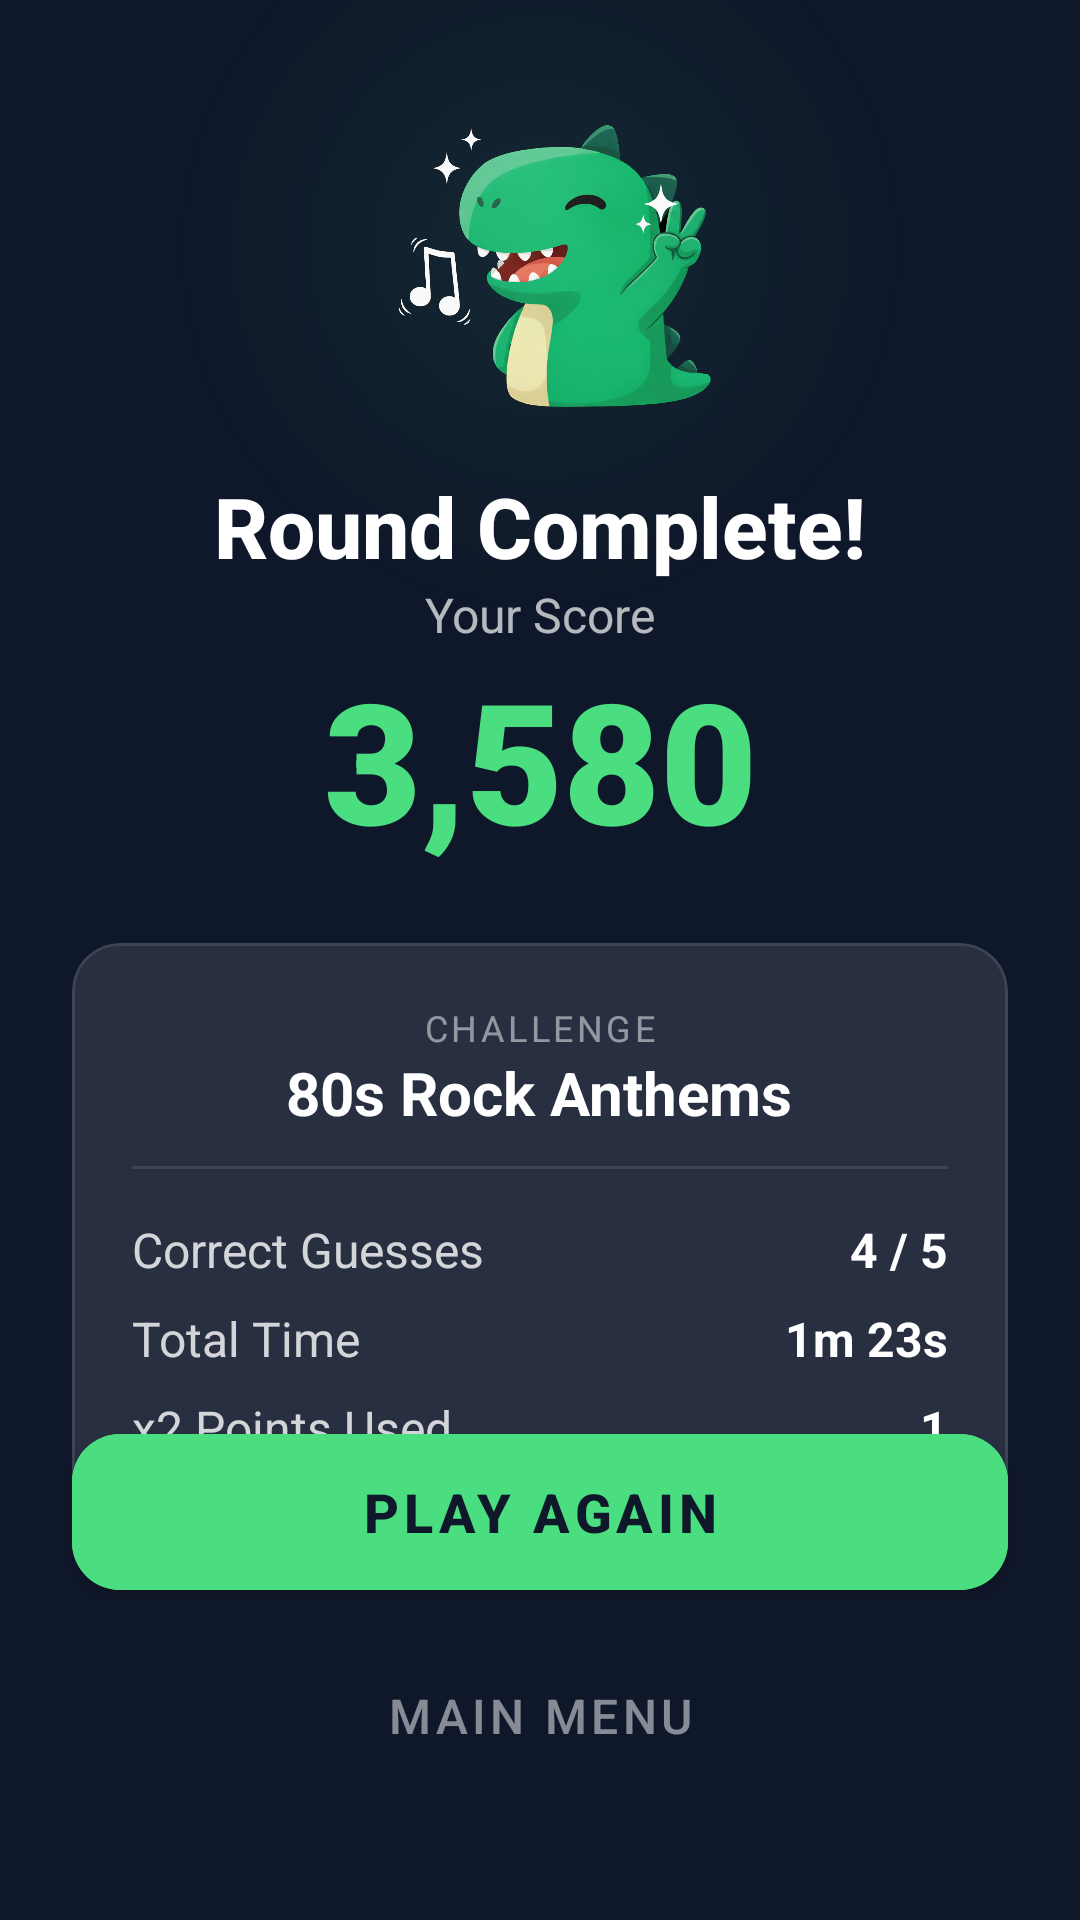

Screen size 1080*1920. Icon name, then its center in pixels as (x,y):
Melodino Win: (554,266)
